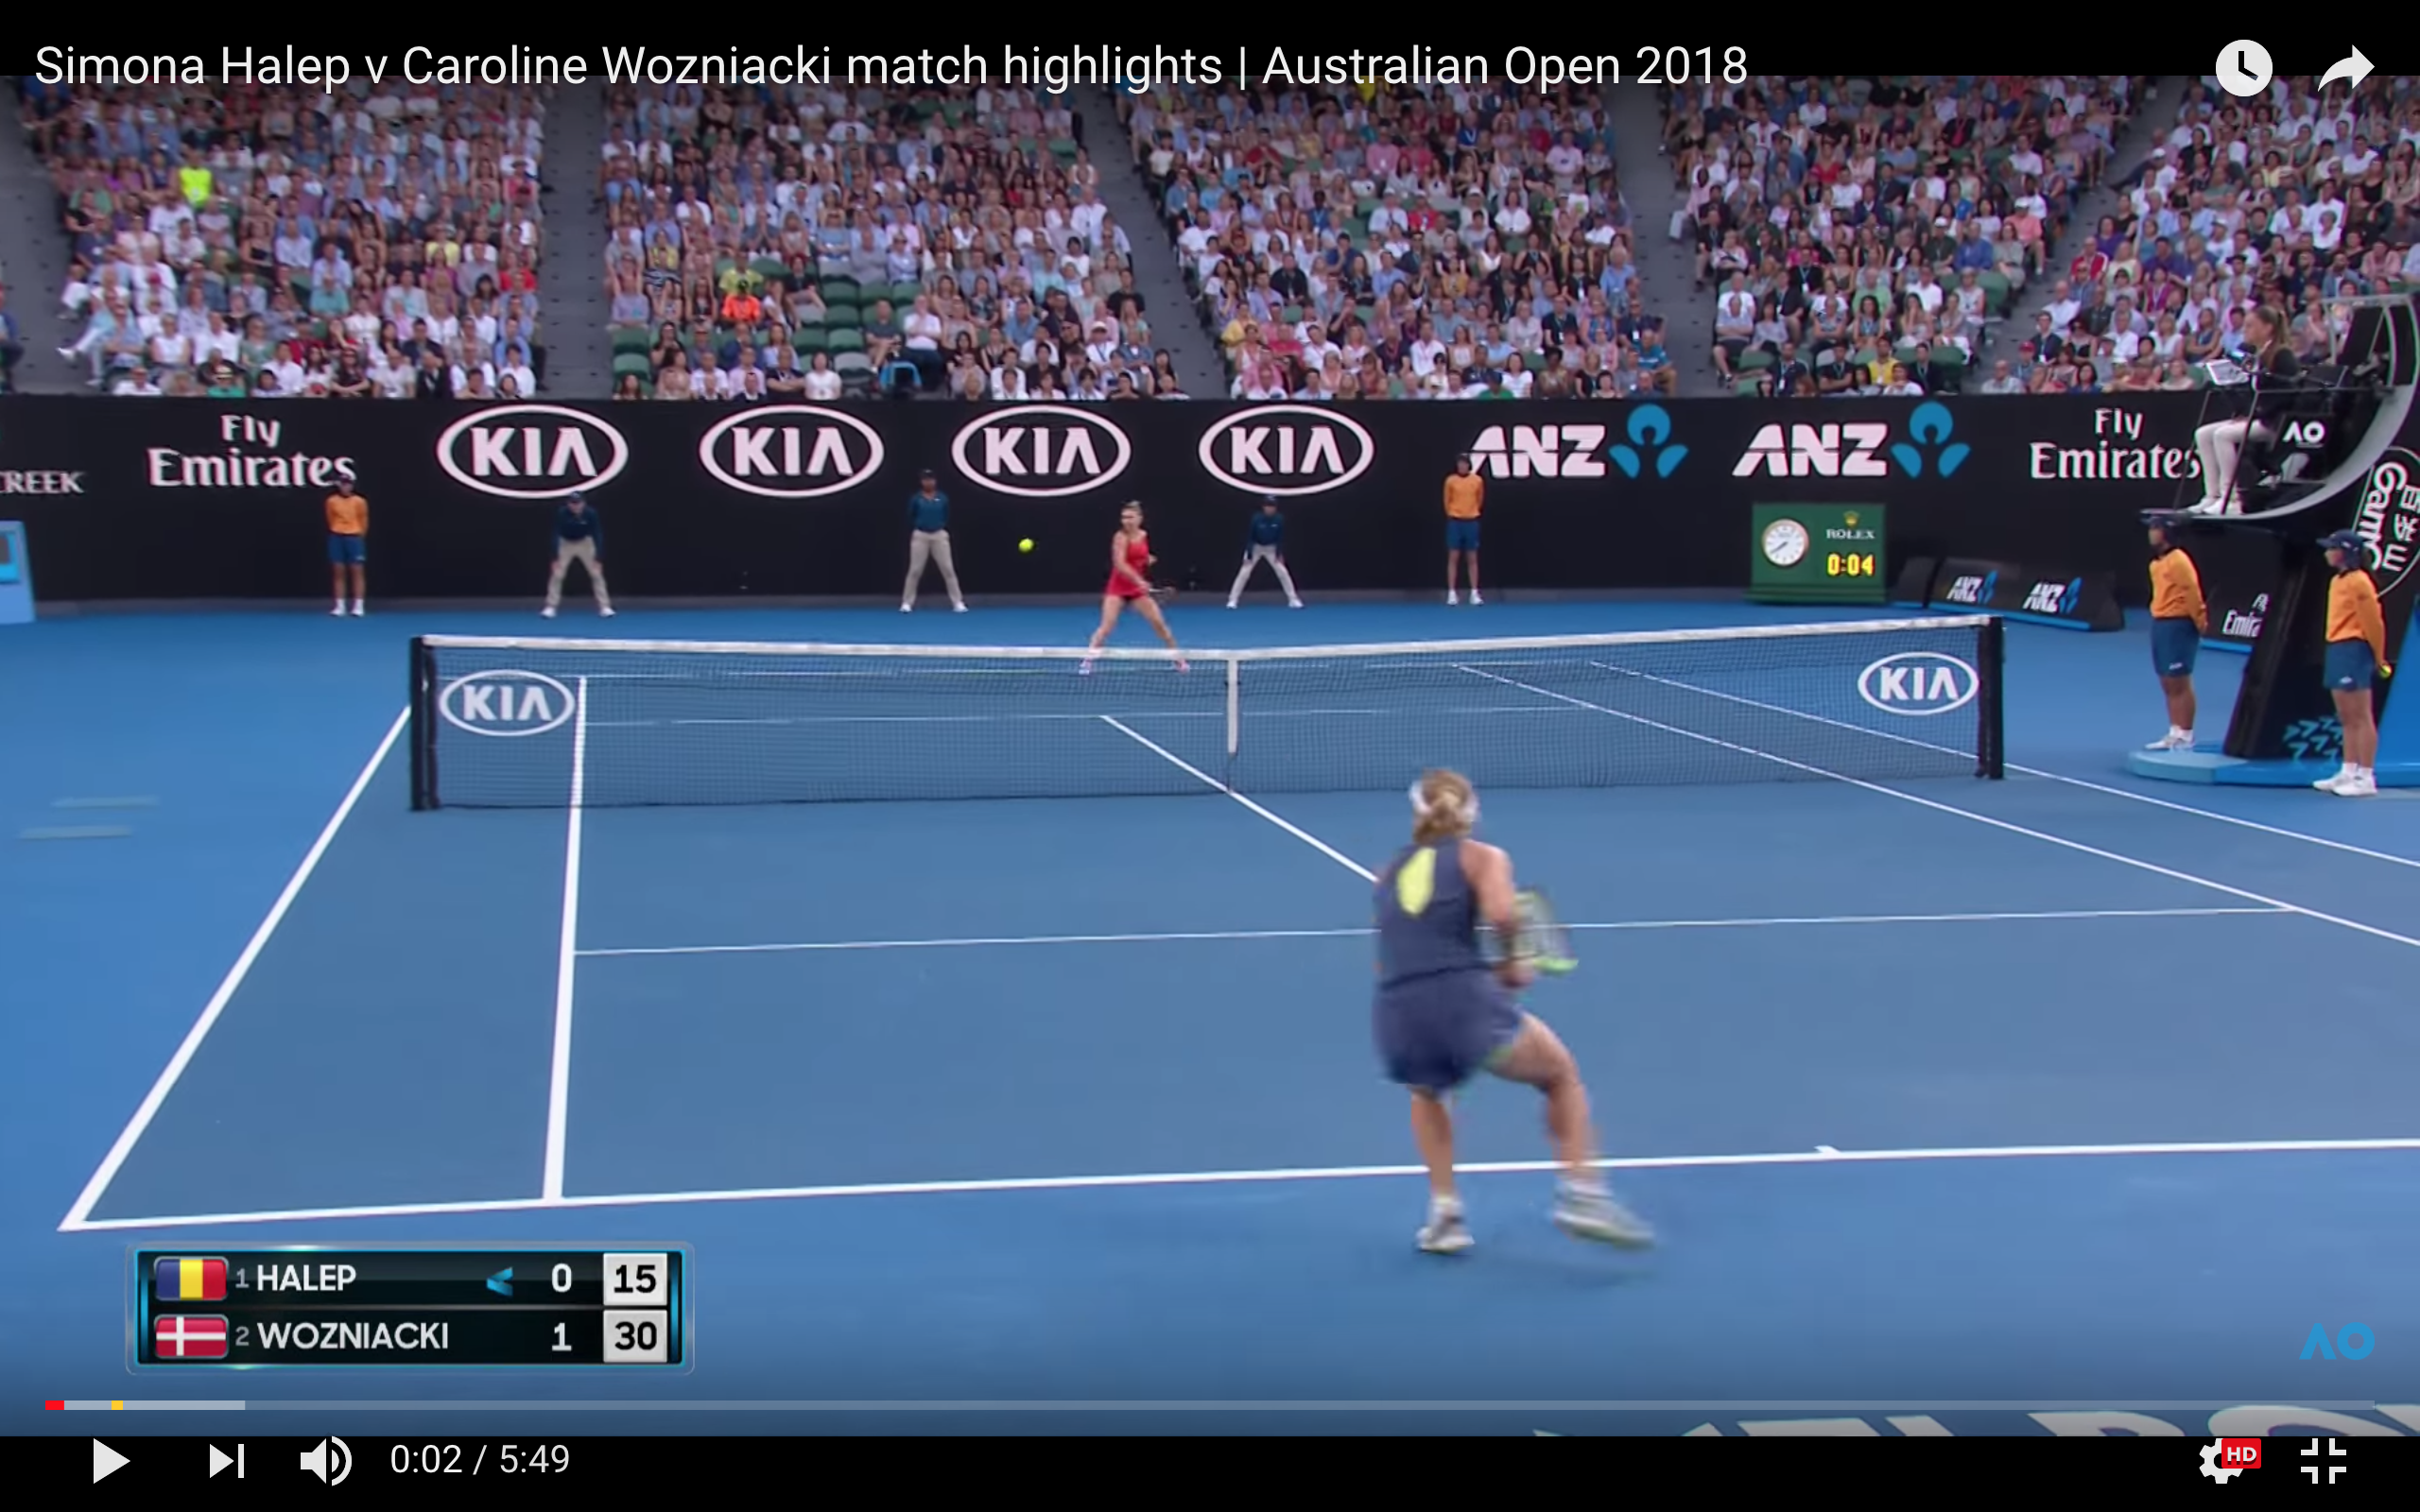tennis ball: (1013, 531, 1042, 559)
tennis player: (1355, 762, 1668, 1265), (1073, 494, 1205, 681)
